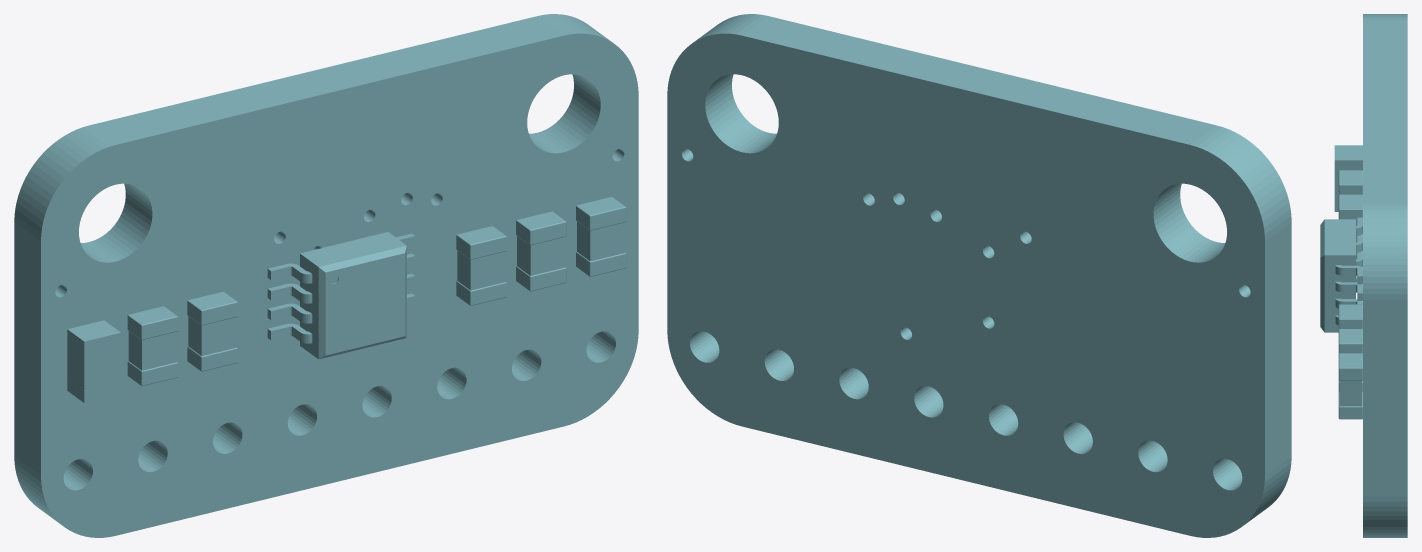
File: adafruit-mcp9808-1782.glb
3 views of the same model, side by side, from view 1: azimuth 30°, elevation 25°; view 2: azimuth 150°, elevation 25°; view 3: azimuth 270°, elevation 25° (orthographic). The views are drawn at different scales.
Bounding box in the file's own units: 0.0203 × 0.0127 × 0.00307.
